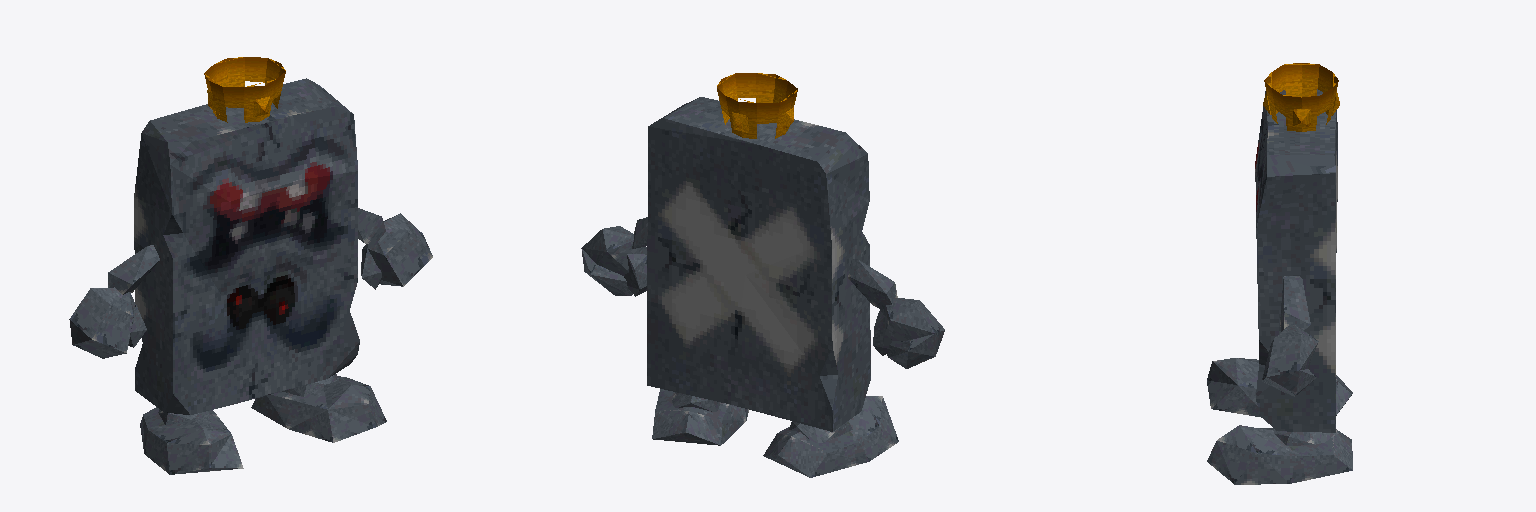
3 views of the same model, side by side, from view 1: azimuth 30°, elevation 25°; view 2: azimuth 150°, elevation 25°; view 3: azimuth 270°, elevation 25° (orthographic).
Visible parts, largest first — view 1: skl_root, arm_r, leg_l, leg_r, arm_l; view 2: skl_root, leg_r, leg_l, arm_l, arm_r; view 3: skl_root, leg_l, arm_l, leg_r.
Part boxes in pixels (x1,y1,x2,y2): skl_root: (70, 57, 432, 474); arm_r: (69, 245, 157, 358); leg_l: (251, 374, 386, 442); leg_r: (144, 409, 237, 474); arm_l: (358, 208, 432, 275); skl_root: (581, 73, 944, 477); leg_r: (763, 396, 898, 477); leg_l: (655, 389, 745, 445); arm_l: (591, 217, 647, 296); arm_r: (849, 259, 944, 368); skl_root: (1207, 63, 1352, 483); leg_l: (1207, 429, 1352, 484); arm_l: (1262, 276, 1310, 395); leg_r: (1207, 358, 1352, 417).
Bounding box in the file's own units: 106 × 101 × 38.23.
Materials: 3 (3 with a texture image).